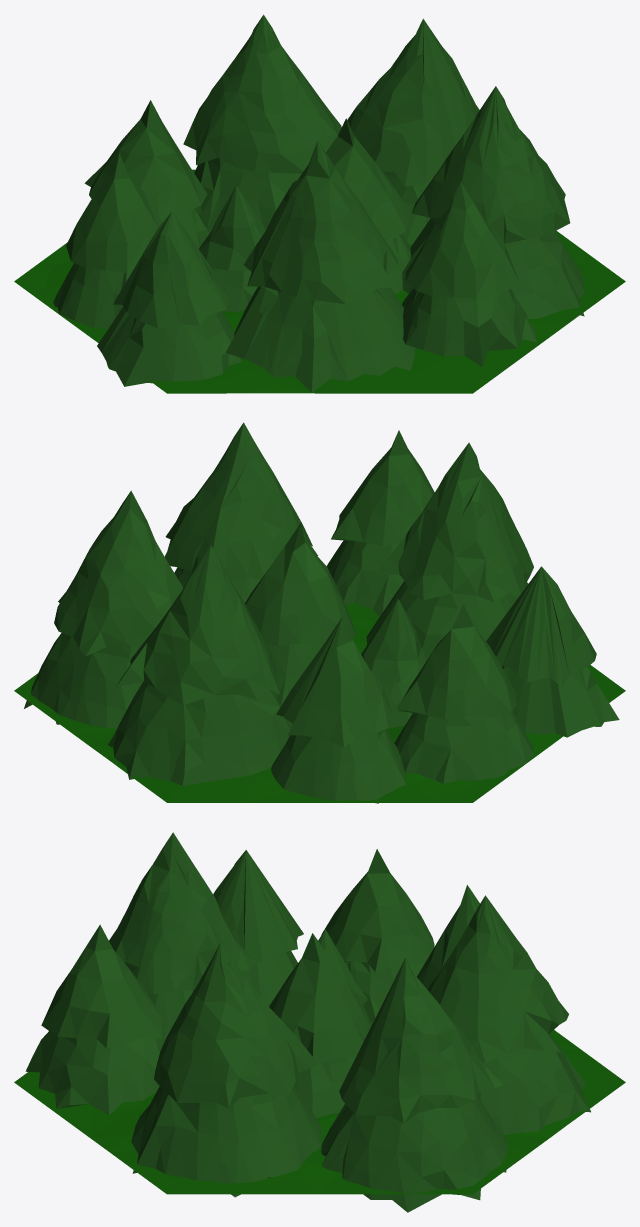
File: forest.gltf
3 views of the same model, one above another, from view 1: azimuth 30°, elevation 25°; view 2: azimuth 150°, elevation 25°; view 3: azimuth 270°, elevation 25° (orthographic).
Visible parts, largest first — view 1: iglak.133, iglak.144, iglak.141, iglak.135, iglak.137, Circle, iglak.145, iglak.146, iglak.138, iglak.142, iglak.139; view 2: iglak.144, iglak.145, iglak.133, iglak.138, iglak.146, iglak.135, iglak.141, Circle, iglak.137, iglak.142, iglak.139; view 3: iglak.141, iglak.145, iglak.144, iglak.137, iglak.133, Circle, iglak.142, iglak.146, iglak.135, iglak.138, iglak.139.
Boxes of the visible parts, left/top/right/bottom form: iglak.133: left=225, top=141, right=415, bottom=392; iglak.144: left=183, top=14, right=341, bottom=233; iglak.141: left=402, top=86, right=585, bottom=318; iglak.135: left=97, top=211, right=241, bottom=386; iglak.137: left=402, top=181, right=536, bottom=366; Circle: left=14, top=169, right=625, bottom=393; iglak.145: left=347, top=18, right=479, bottom=244; iglak.146: left=53, top=153, right=162, bottom=329; iglak.138: left=84, top=100, right=209, bottom=248; iglak.142: left=326, top=118, right=411, bottom=294; iglak.139: left=199, top=185, right=265, bottom=311; iglak.144: left=108, top=545, right=292, bottom=785; iglak.145: left=24, top=490, right=183, bottom=728; iglak.133: left=366, top=442, right=533, bottom=658; iglak.138: left=271, top=617, right=406, bottom=803; iglak.146: left=394, top=604, right=533, bottom=783; iglak.135: left=486, top=566, right=619, bottom=737; iglak.141: left=165, top=422, right=317, bottom=602; Circle: left=14, top=603, right=625, bottom=802; iglak.137: left=326, top=430, right=434, bottom=616; iglak.142: left=245, top=522, right=355, bottom=705; iglak.139: left=361, top=599, right=427, bottom=728; iglak.141: left=131, top=943, right=322, bottom=1197; iglak.145: left=321, top=958, right=508, bottom=1212; iglak.144: left=428, top=895, right=590, bottom=1134; iglak.137: left=25, top=924, right=163, bottom=1114; iglak.133: left=109, top=832, right=255, bottom=1044; Circle: left=14, top=1021, right=625, bottom=1194; iglak.142: left=269, top=933, right=371, bottom=1118; iglak.146: left=321, top=849, right=434, bottom=1021; iglak.135: left=213, top=850, right=303, bottom=1006; iglak.138: left=417, top=885, right=479, bottom=989; iglak.139: left=318, top=929, right=367, bottom=1003.
Bounding box in the file's own units: 1.82 × 0.8253 × 2.
